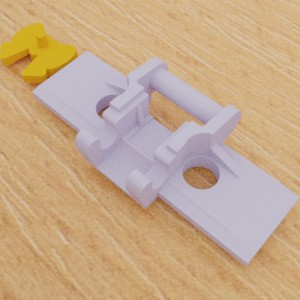lego: (32, 50, 299, 266), (0, 22, 78, 82)
